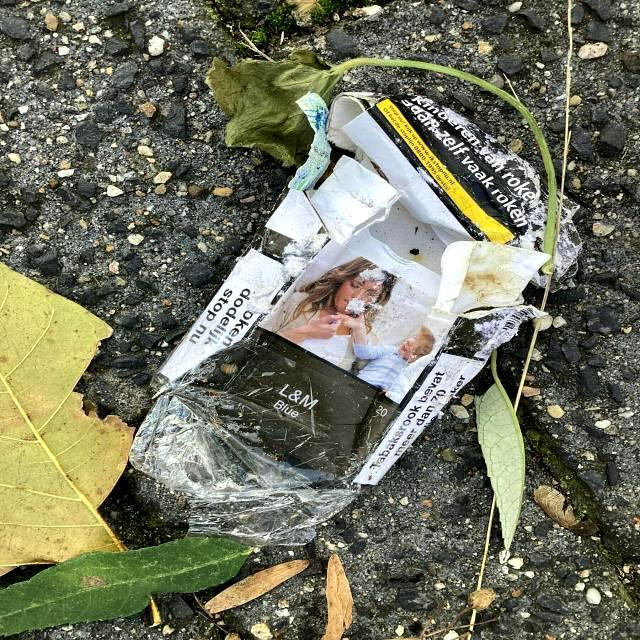Paper: (122, 85, 586, 553)
